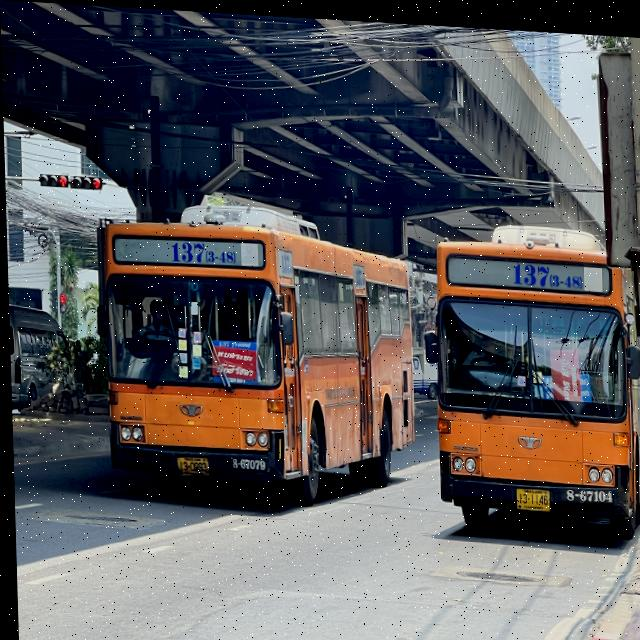BMTA-bus: (99, 189, 418, 515), (427, 209, 640, 543)
Bus Line Number: (508, 255, 582, 285), (166, 236, 236, 265)
Bus Side Number: (562, 481, 611, 499), (225, 452, 266, 471)
Destination Sign: (208, 342, 255, 378), (533, 367, 590, 393)
